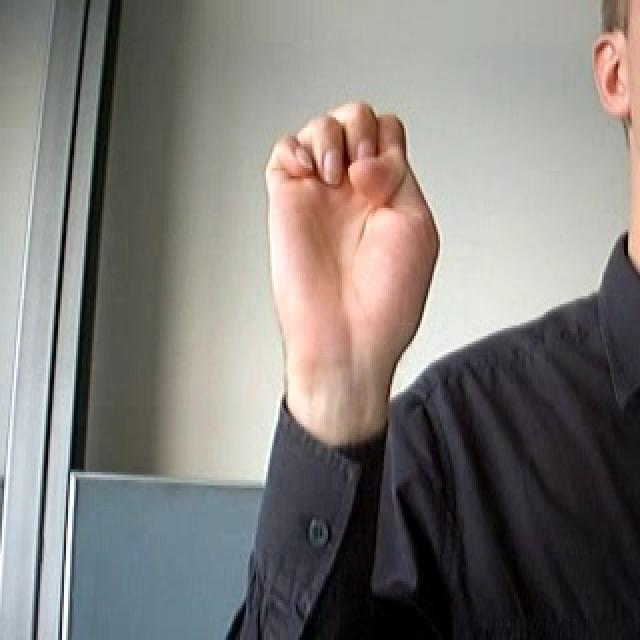E: (234, 89, 459, 422)
